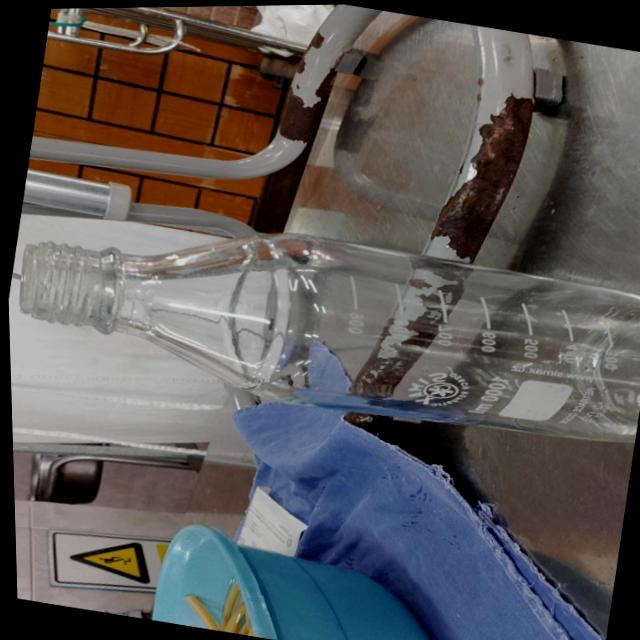General: (14, 6, 640, 639)
Infectious: (232, 340, 605, 639)
Sharps: (18, 230, 640, 442), (150, 522, 439, 639)
